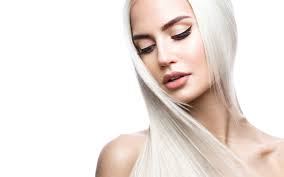white_female: (108, 9, 218, 104)
